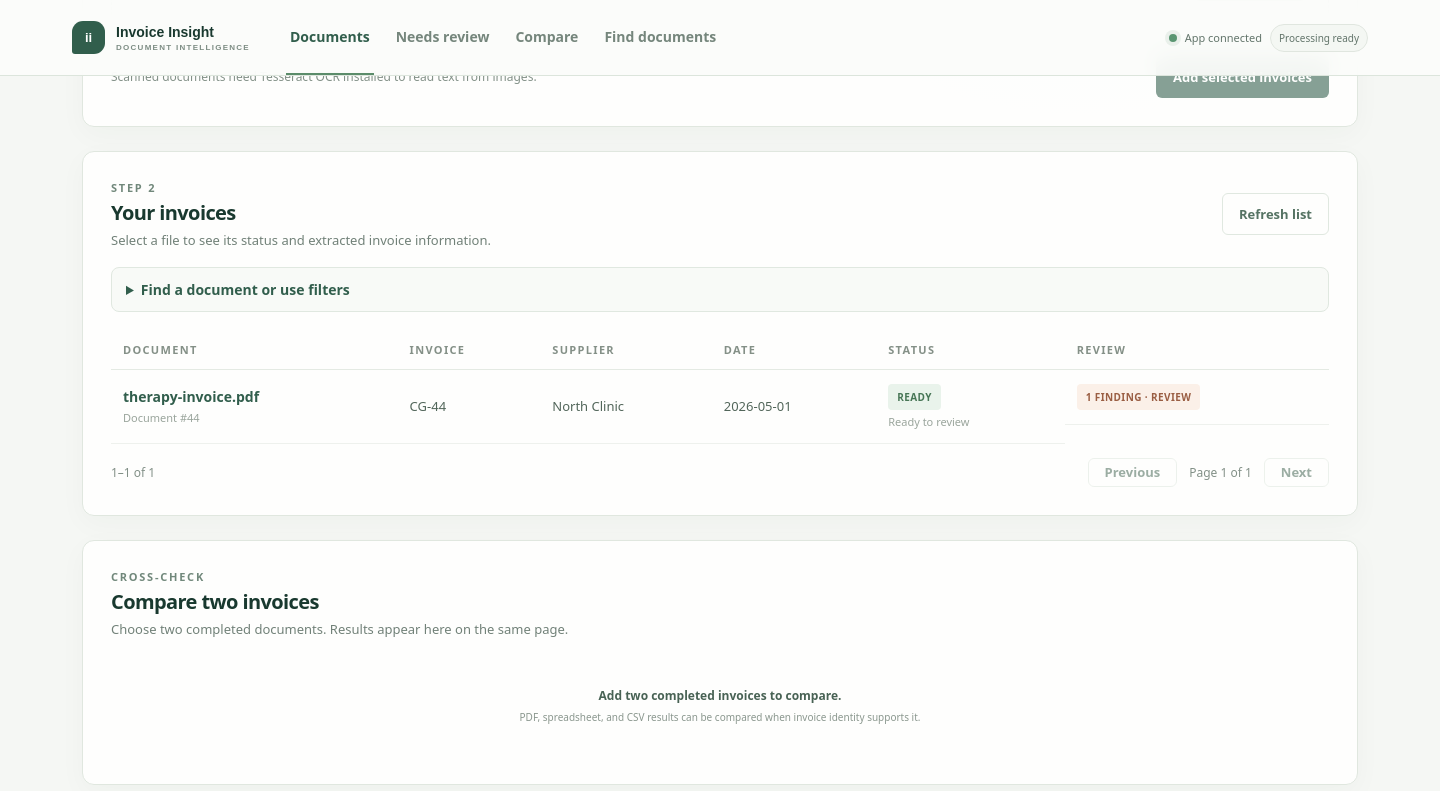
Test: document workspace › shows local model proposals, stages reviewer-selected values, and saves them with model provenance
The image size is (1440, 791).
(page scrolled)
Click the button "therapy-invoice.pdf Document #44": (191, 406) [123,387,259,425]
(page scrolled)
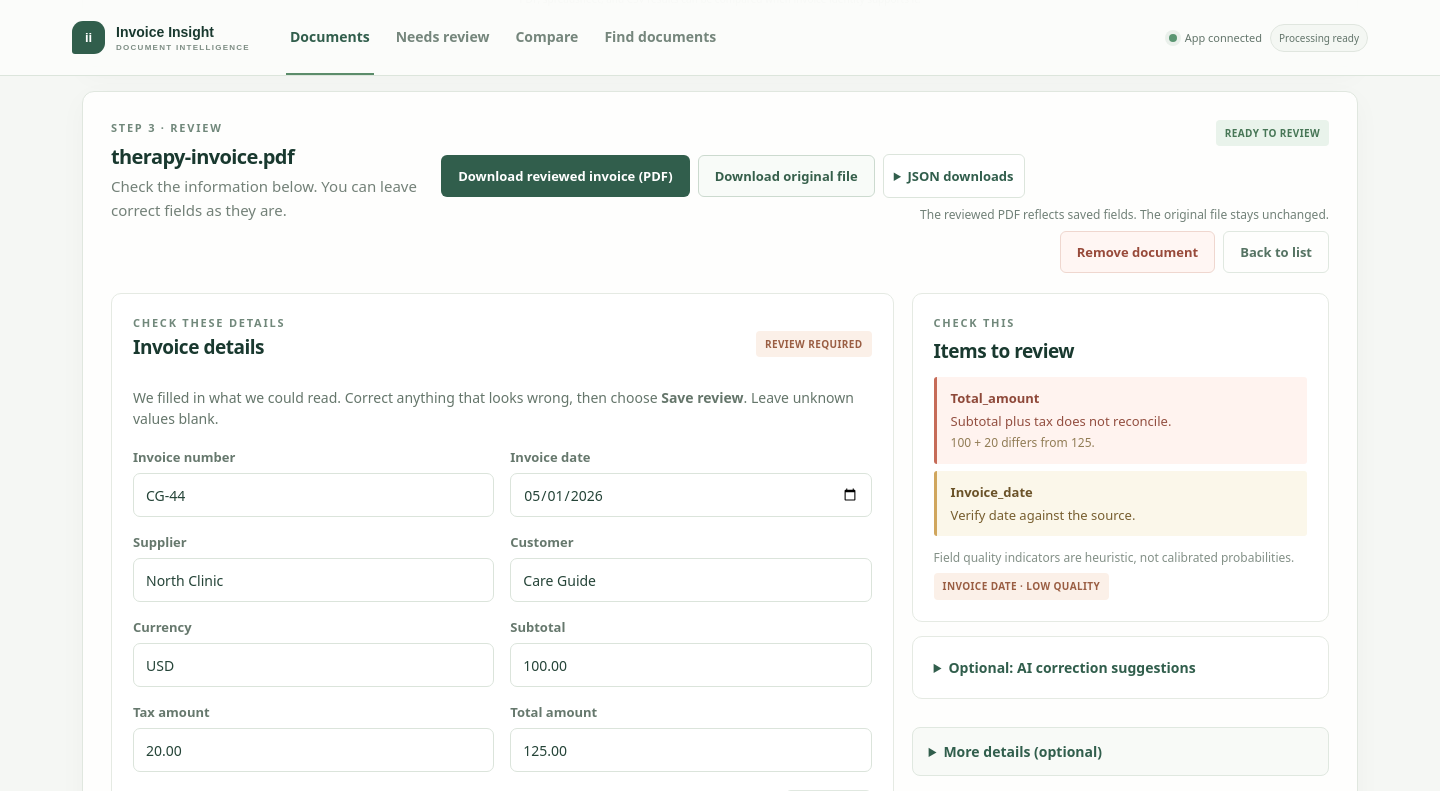
Click the heading "Optional: AI correction suggestions": (1072, 668) [948,658,1196,678]
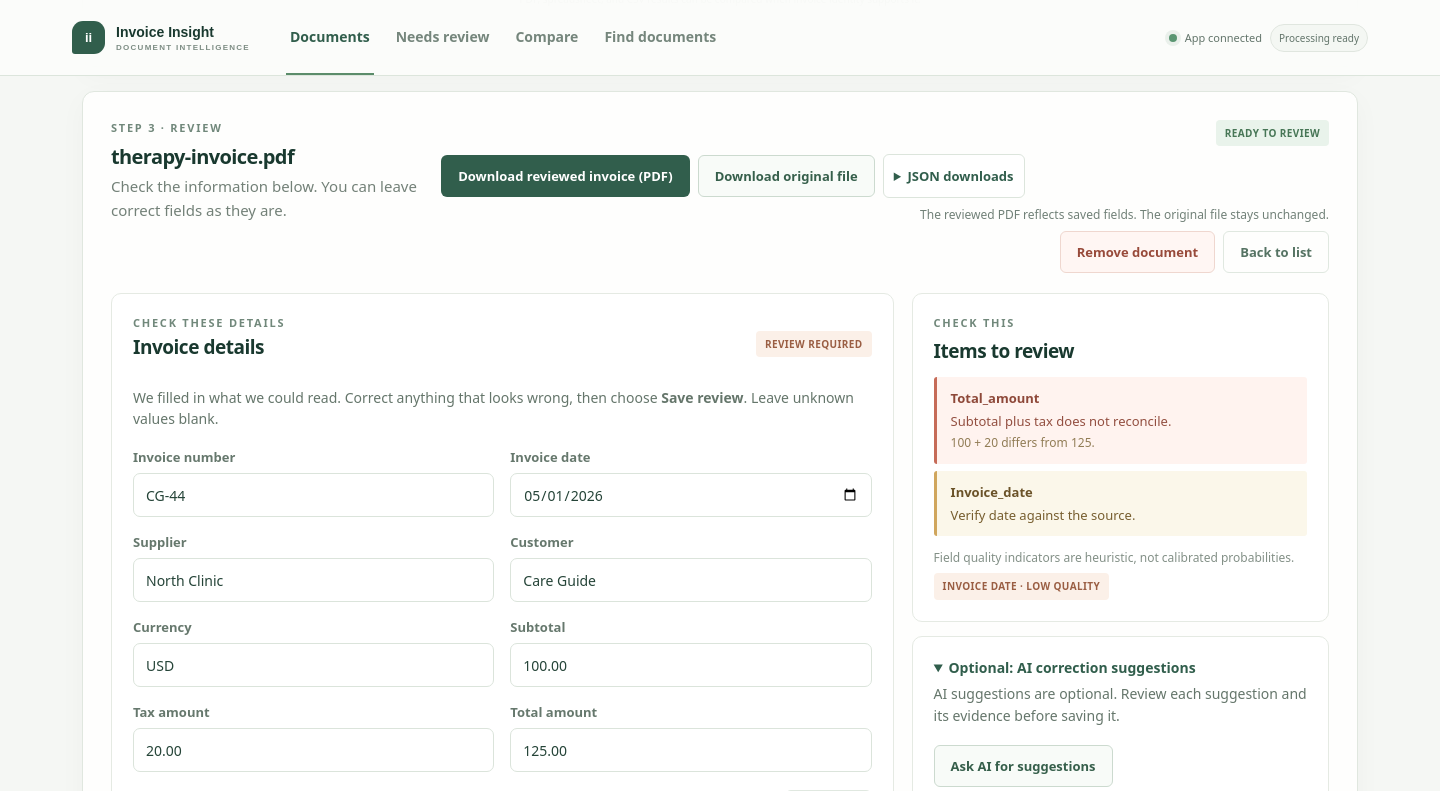
Click the button "Ask AI for suggestions": (1023, 766) [934,745,1112,787]
(page scrolled)
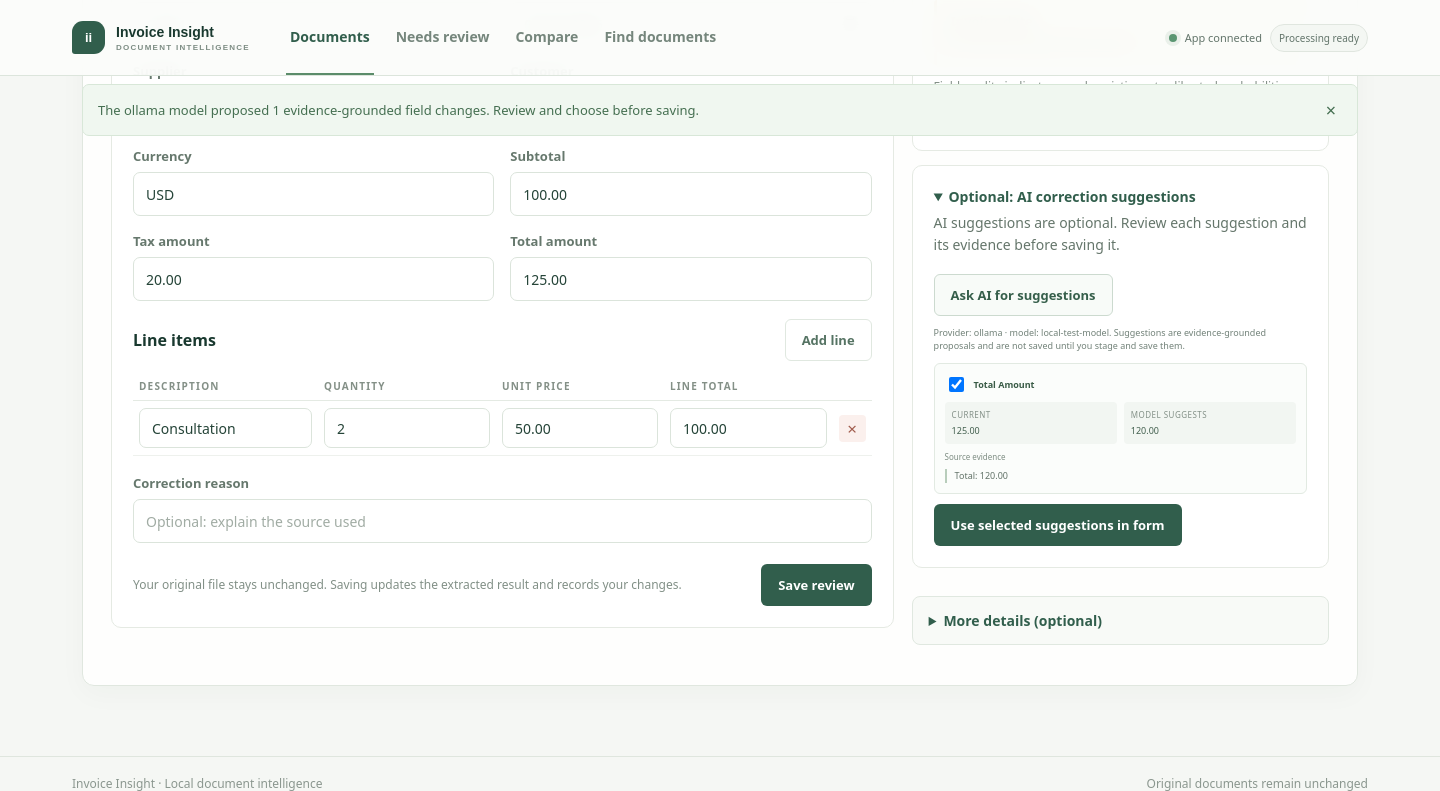
Result: the text "Total: 120.00" is shown at [945,469,1296,483]
Click the button "Use selected suggestions in form": (1058, 525) [934,504,1182,546]
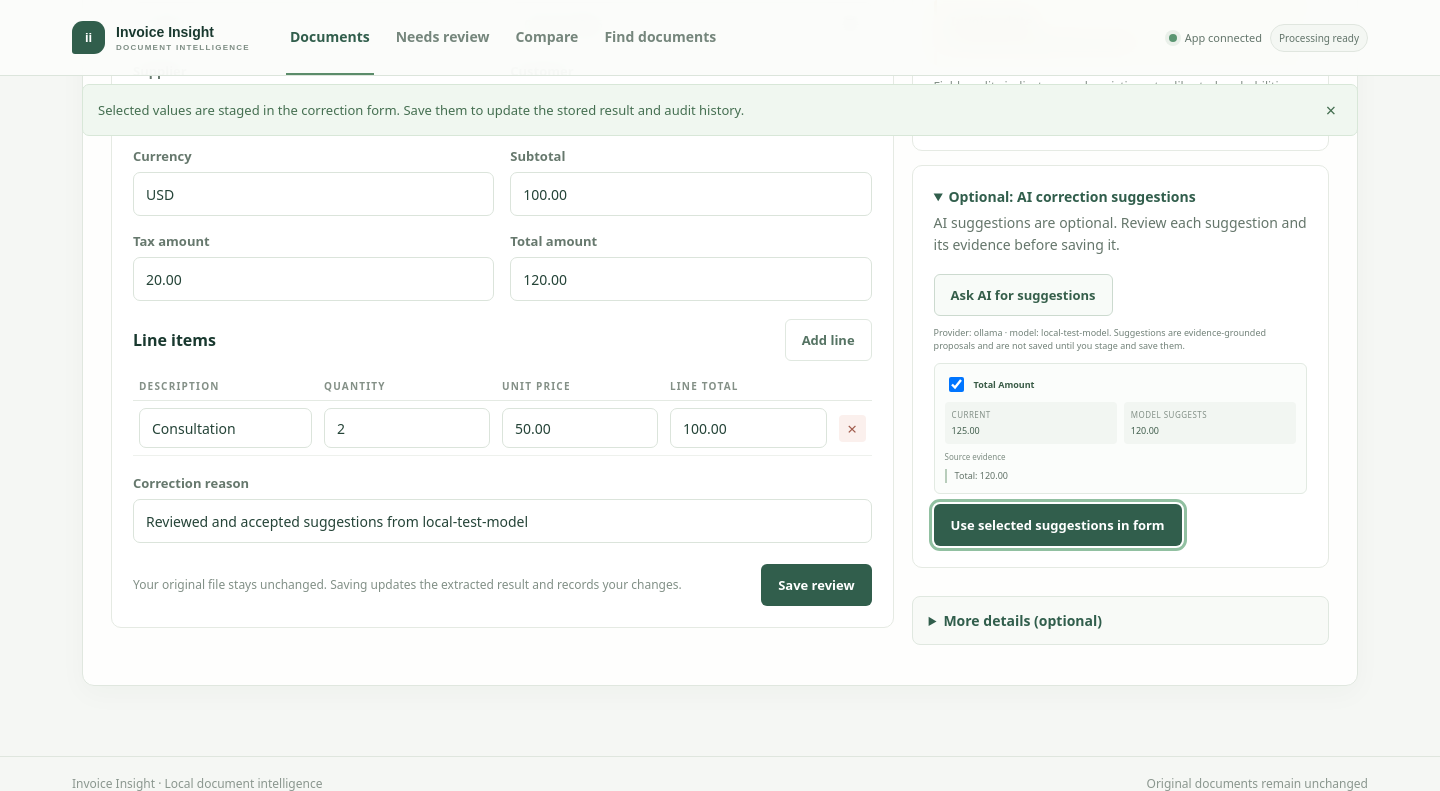
Result: the field labelled "Total amount" holds "120.00" at [510,257,872,301]
Click the button "Save review": (816, 585) [761,564,872,606]
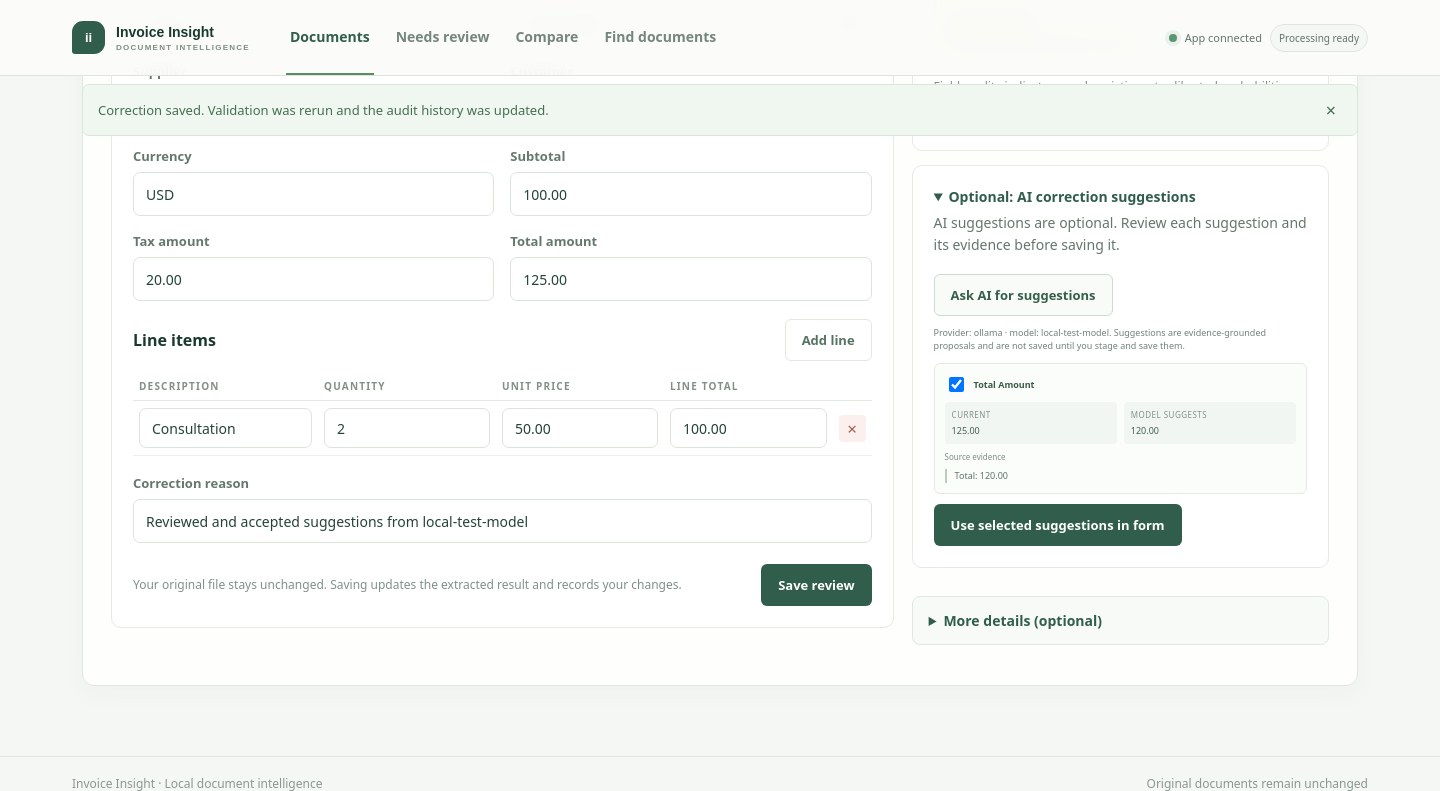
Result: the text "Correction saved. Validation was rerun and the audit history was updated." is shown at [98,101,549,119]
